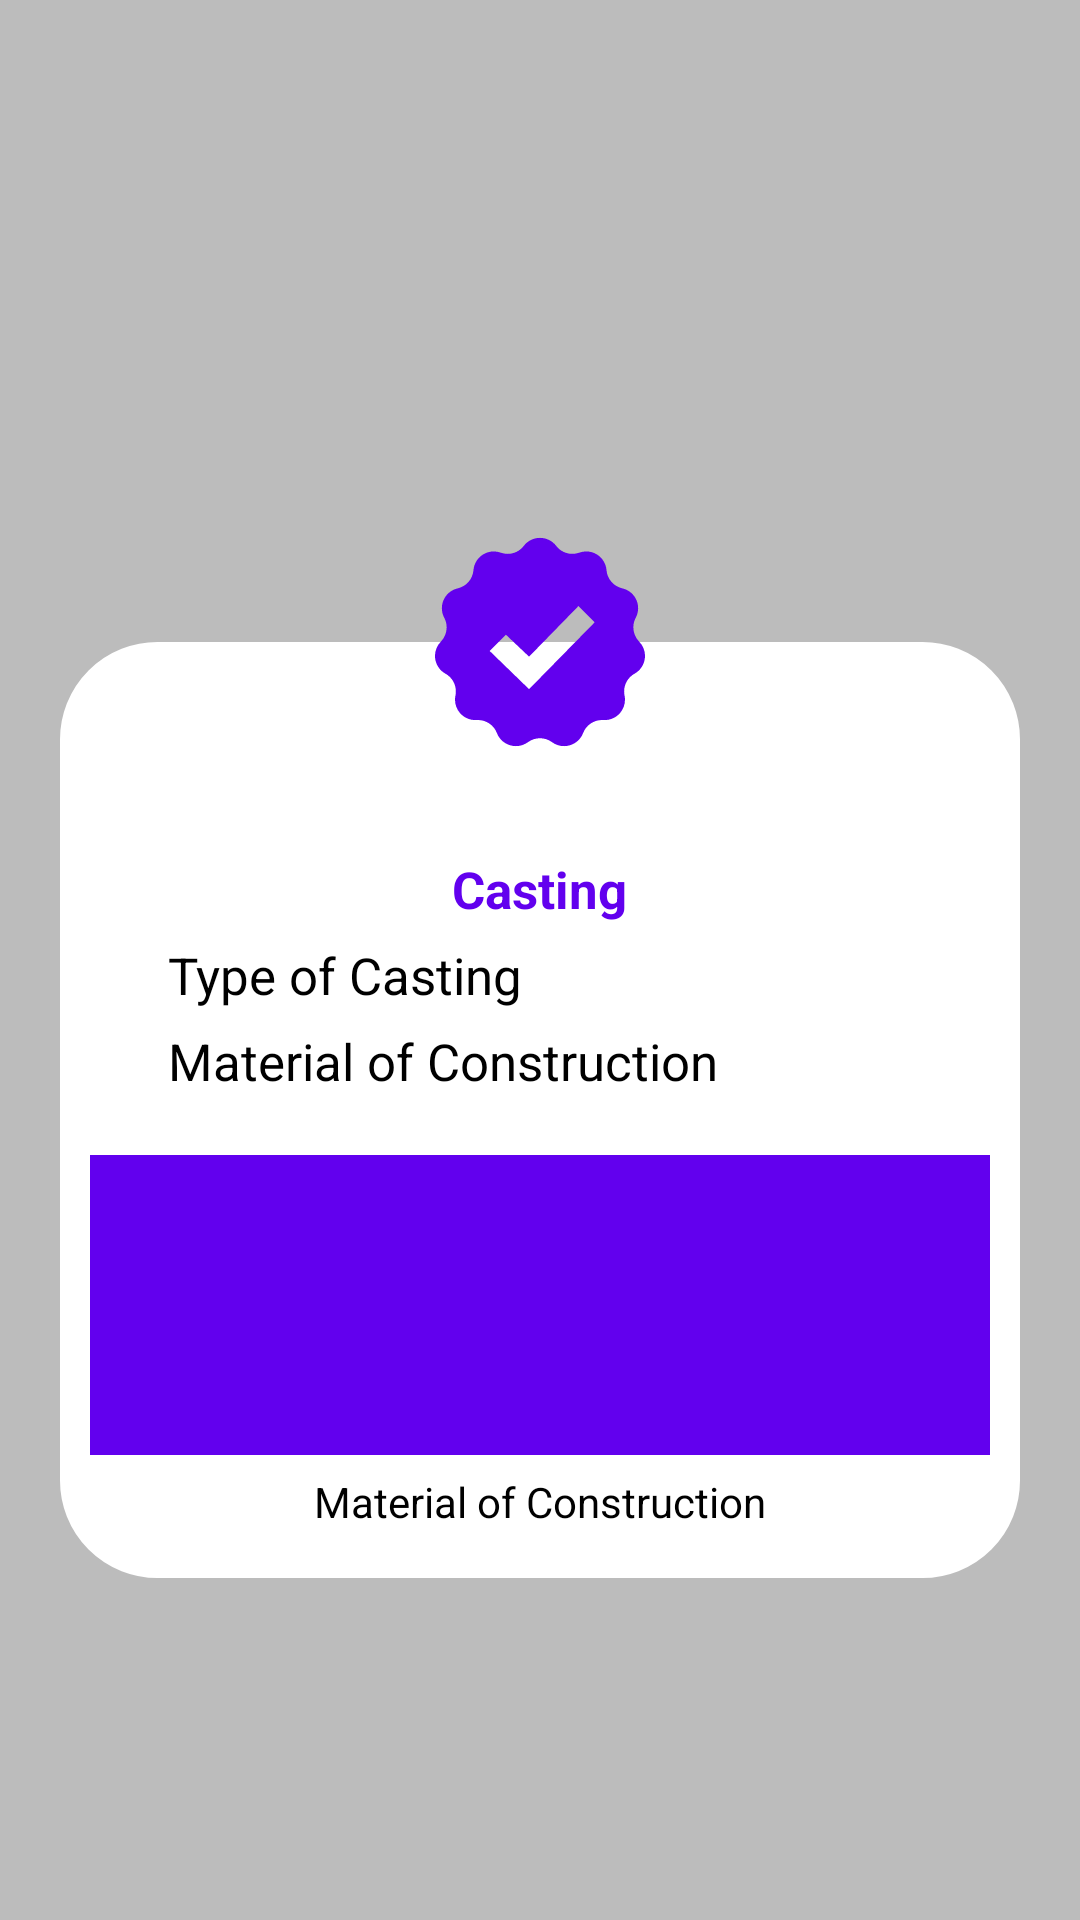

Point at icon controls on the screen. Image size 1080×1920, points as (x=x, y=y).
iconmonstr check mark: (x=540, y=642)
